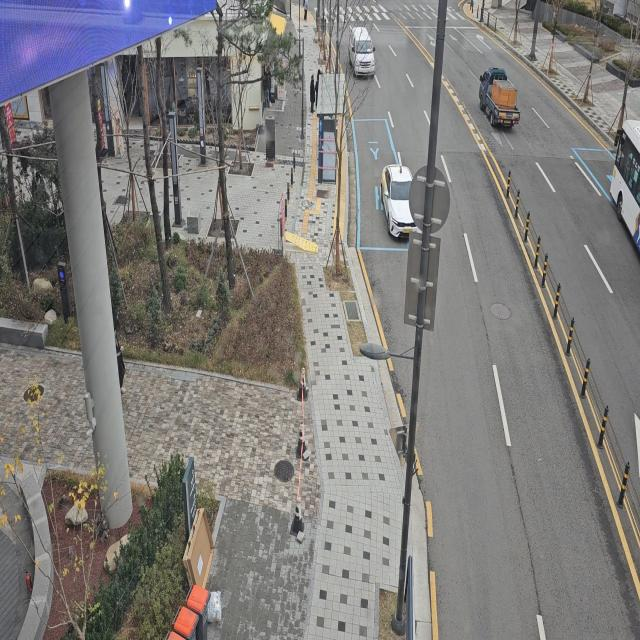Bus: (601, 111, 640, 258)
Car: (375, 152, 424, 254), (346, 14, 379, 84)
Truck: (477, 46, 521, 134)
